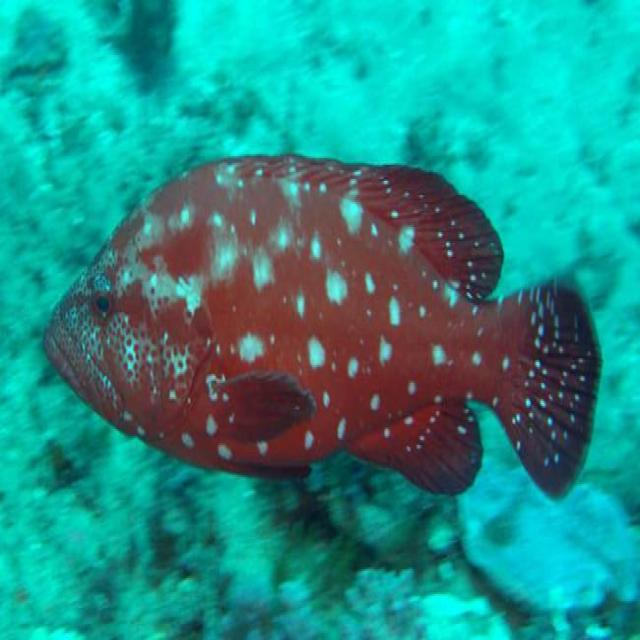ikan: (42, 150, 602, 502)
